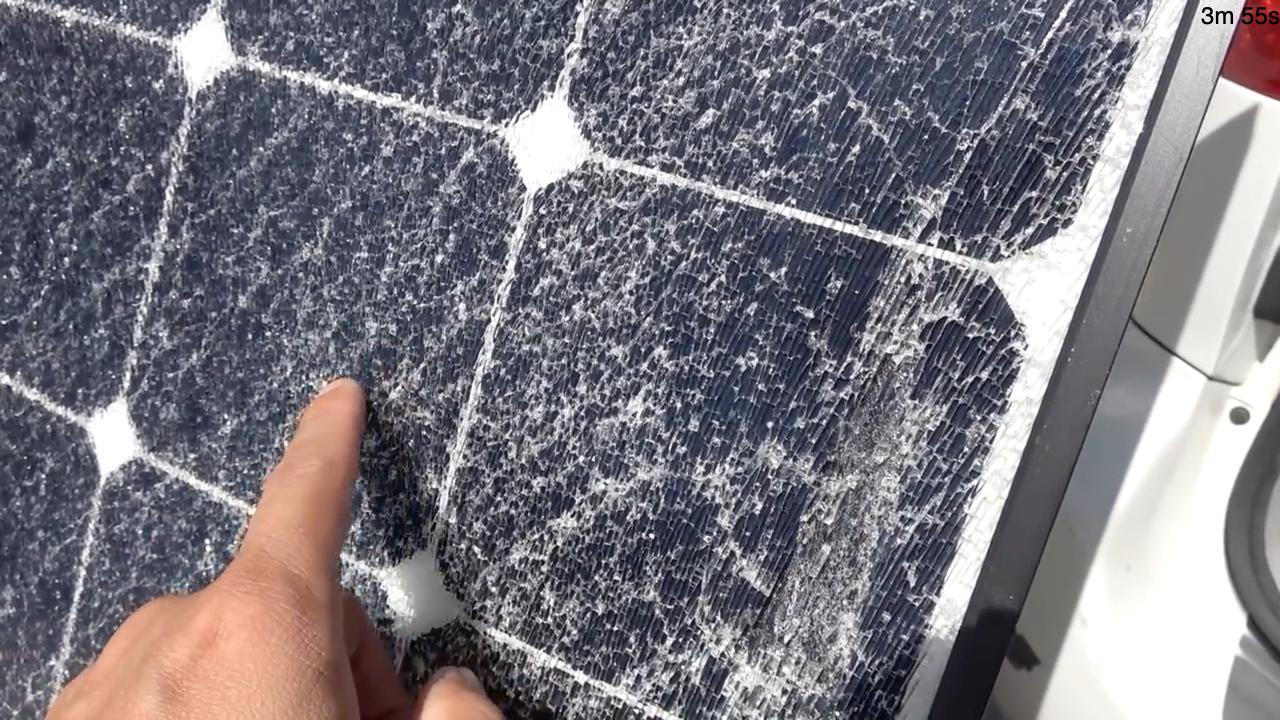Crack: (497, 370, 1041, 720), (278, 9, 785, 369), (785, 0, 1146, 366), (0, 0, 279, 374), (0, 380, 220, 574)
